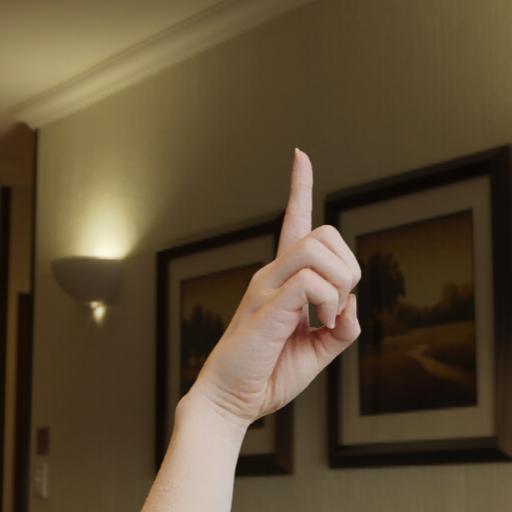D: (195, 142, 363, 426)
